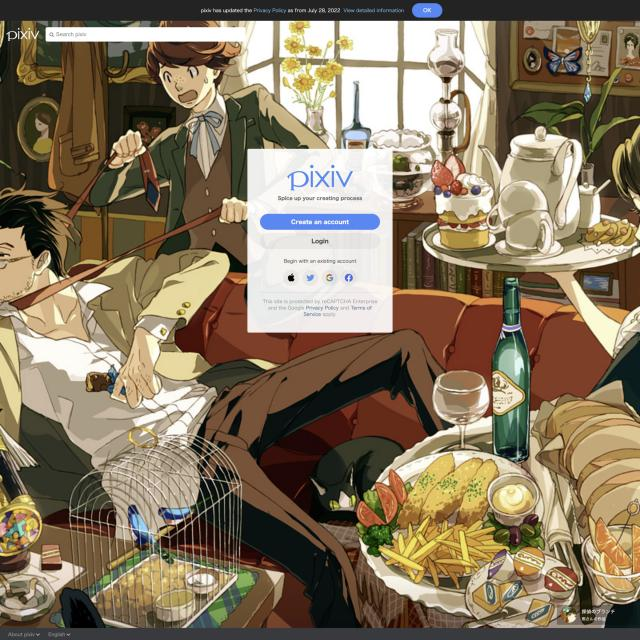input: (45, 27, 246, 42)
logo: (286, 162, 354, 192), (5, 26, 40, 42)
